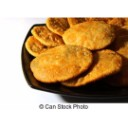poori: (29, 46, 91, 82), (60, 52, 122, 87), (64, 23, 113, 48), (31, 26, 65, 48)
